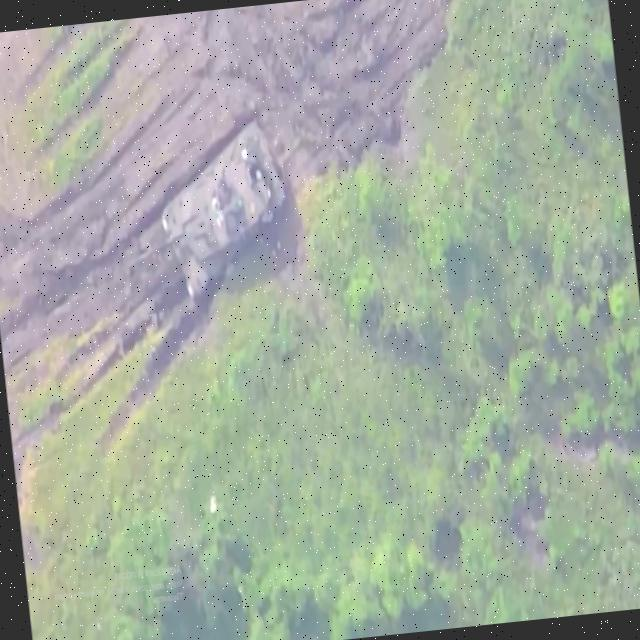MBT: (114, 115, 299, 310)
